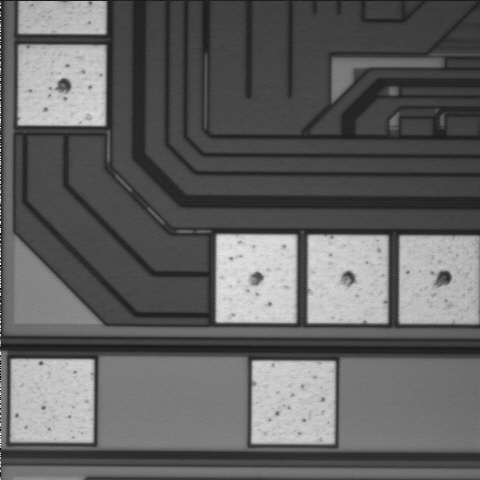pad: (18, 45, 105, 126), (216, 235, 296, 323), (308, 235, 387, 323), (11, 359, 94, 442), (252, 361, 335, 444), (400, 236, 478, 323)
